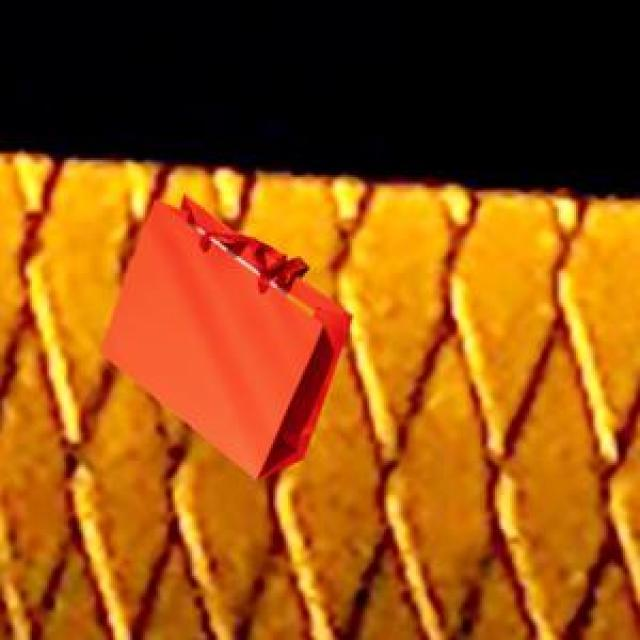paper: (96, 192, 348, 476)
